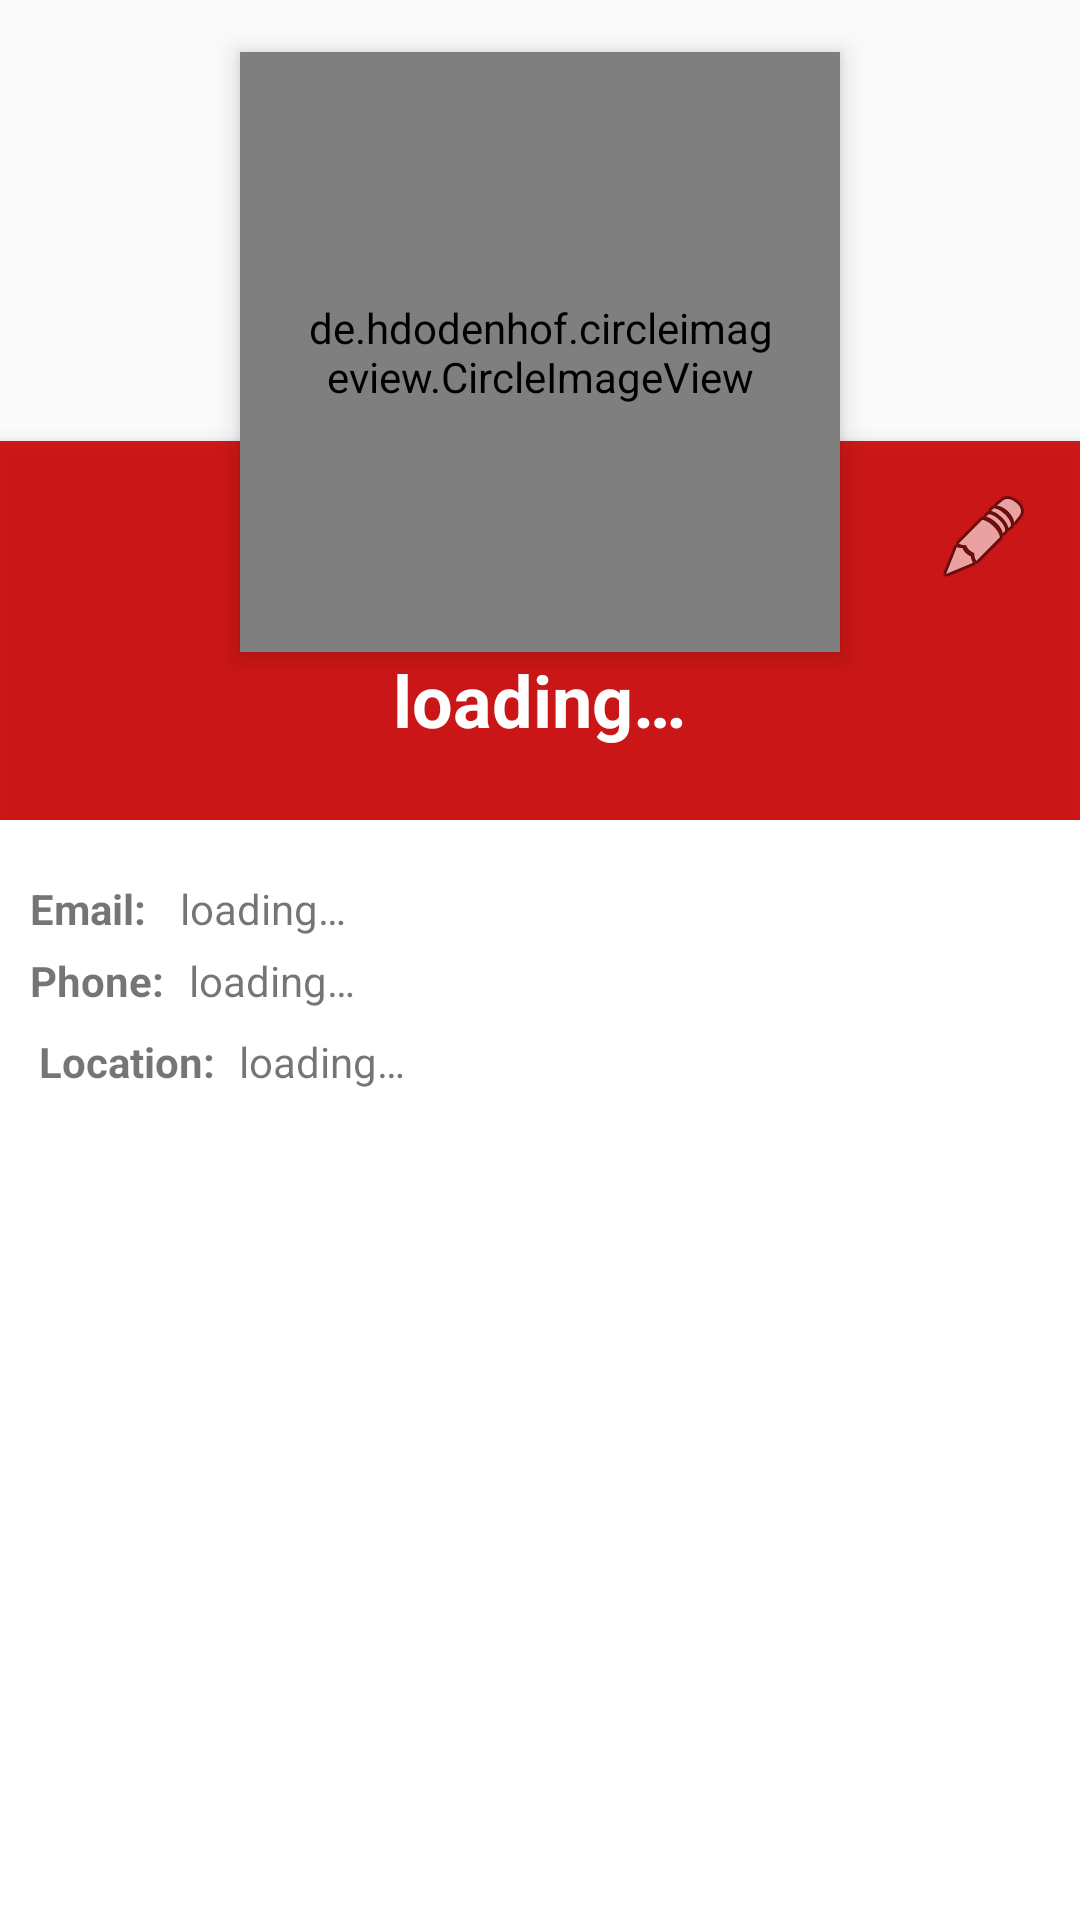

Point at icon controls on the screen. Image size 1080×1920, points as point (x, y).
edit: point (983, 536)
